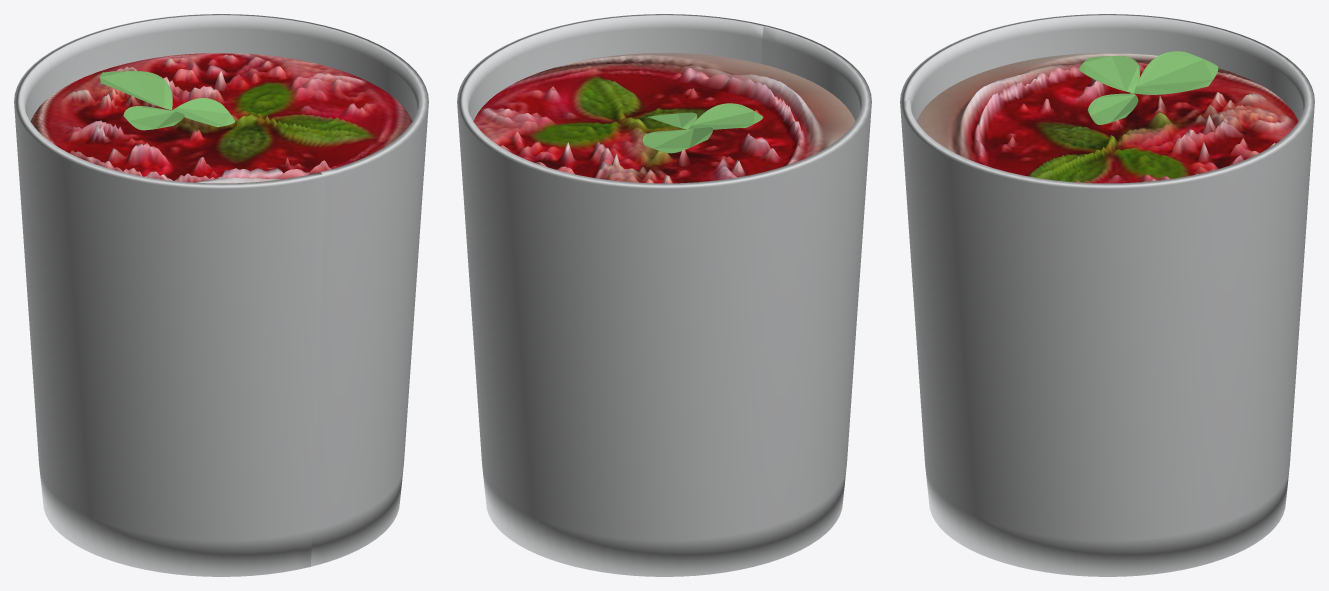
Rendered from hibiscus-spritz.glb.
The picture shows the model from 3 angles, left to right: view 1: azimuth 30°, elevation 25°; view 2: azimuth 150°, elevation 25°; view 3: azimuth 270°, elevation 25°; orthographic projection.
Parts seen in each view (by area): view 1: CrystalTumblerGlass, PhotoSculptedIceCrown, FreshGardenMintSprig; view 2: CrystalTumblerGlass, PhotoSculptedIceCrown, FreshGardenMintSprig; view 3: CrystalTumblerGlass, PhotoSculptedIceCrown, FreshGardenMintSprig.
Part boxes in pixels (x1,y1,x2,y2): CrystalTumblerGlass: (14, 14, 428, 576); PhotoSculptedIceCrown: (30, 53, 412, 183); FreshGardenMintSprig: (100, 71, 234, 130); CrystalTumblerGlass: (457, 14, 871, 576); PhotoSculptedIceCrown: (473, 53, 855, 183); FreshGardenMintSprig: (642, 103, 763, 153); CrystalTumblerGlass: (900, 14, 1314, 576); PhotoSculptedIceCrown: (916, 53, 1298, 183); FreshGardenMintSprig: (1079, 51, 1218, 124).
Bounding box in the file's own units: 1.58 × 1.73 × 1.58.
4 materials, 2 textured.
